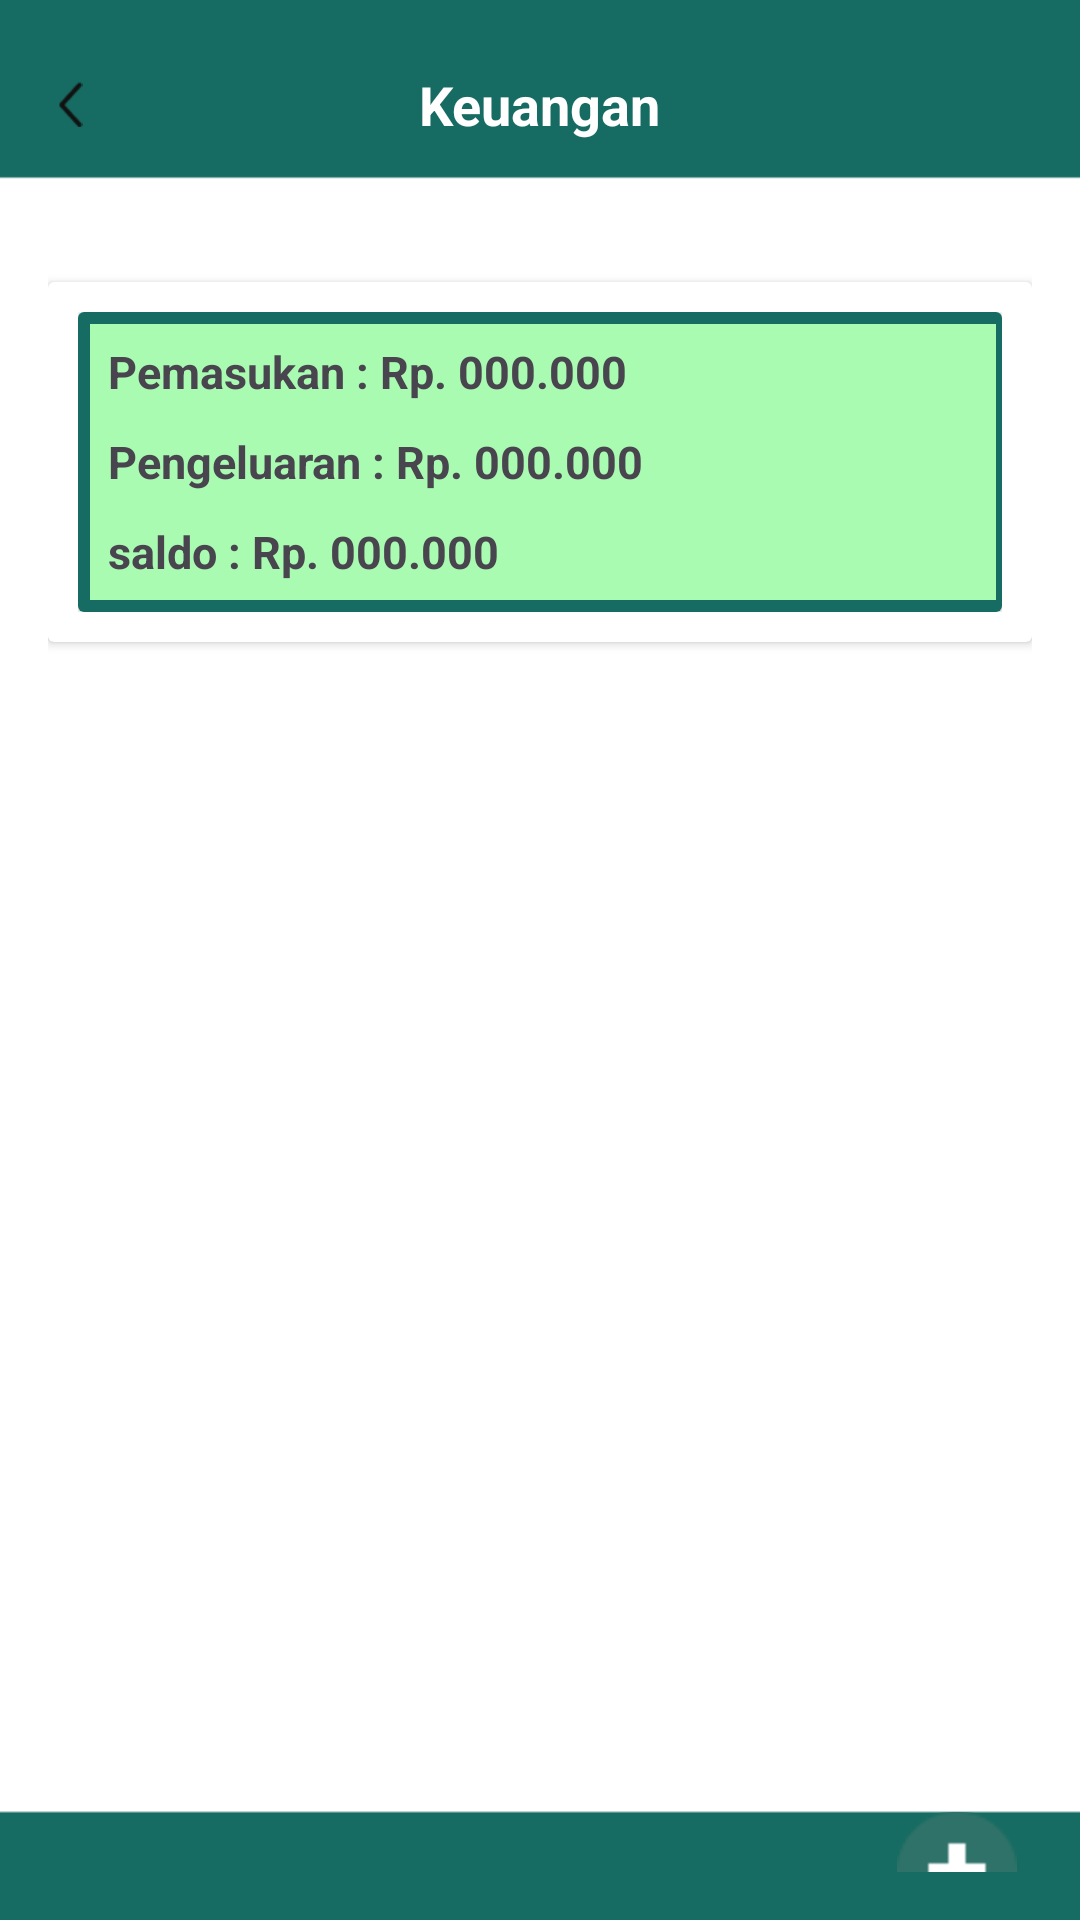

Icons on this 1080×1920 Android screen, each with its box as (x1, y1, x2, y2):
back: (59, 82, 83, 127)
